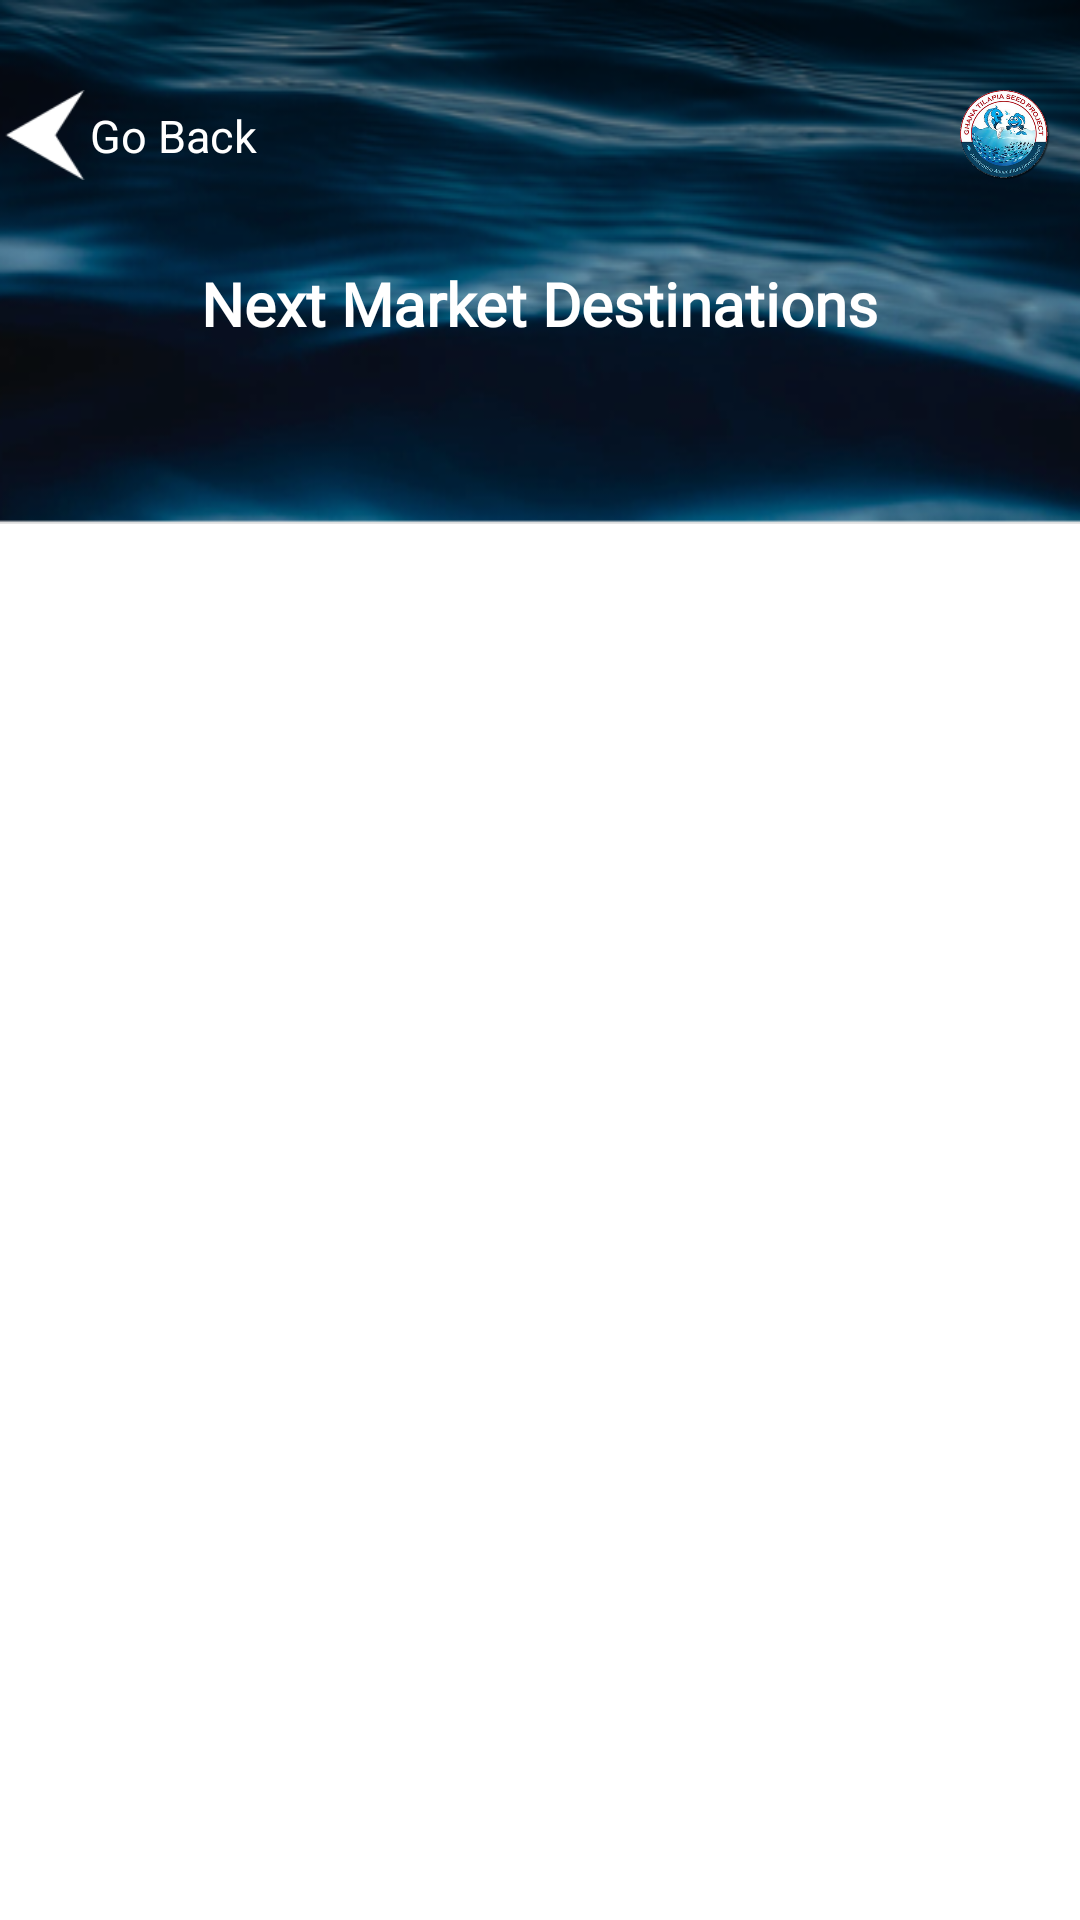

Icons on this 1080px x 1920px Android screen, each with its box as box=[x1, y1, x2, y2]:
arrowwhite: box=[6, 90, 85, 180]
